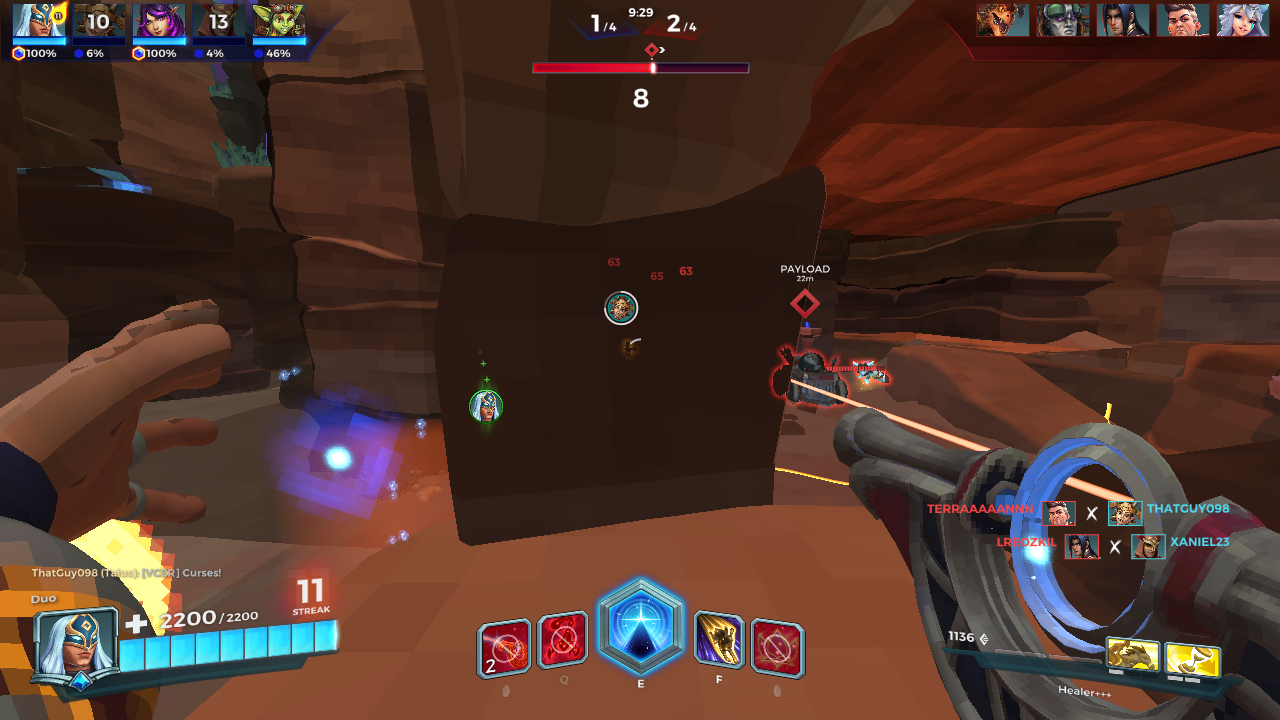model: (617, 335, 636, 356)
